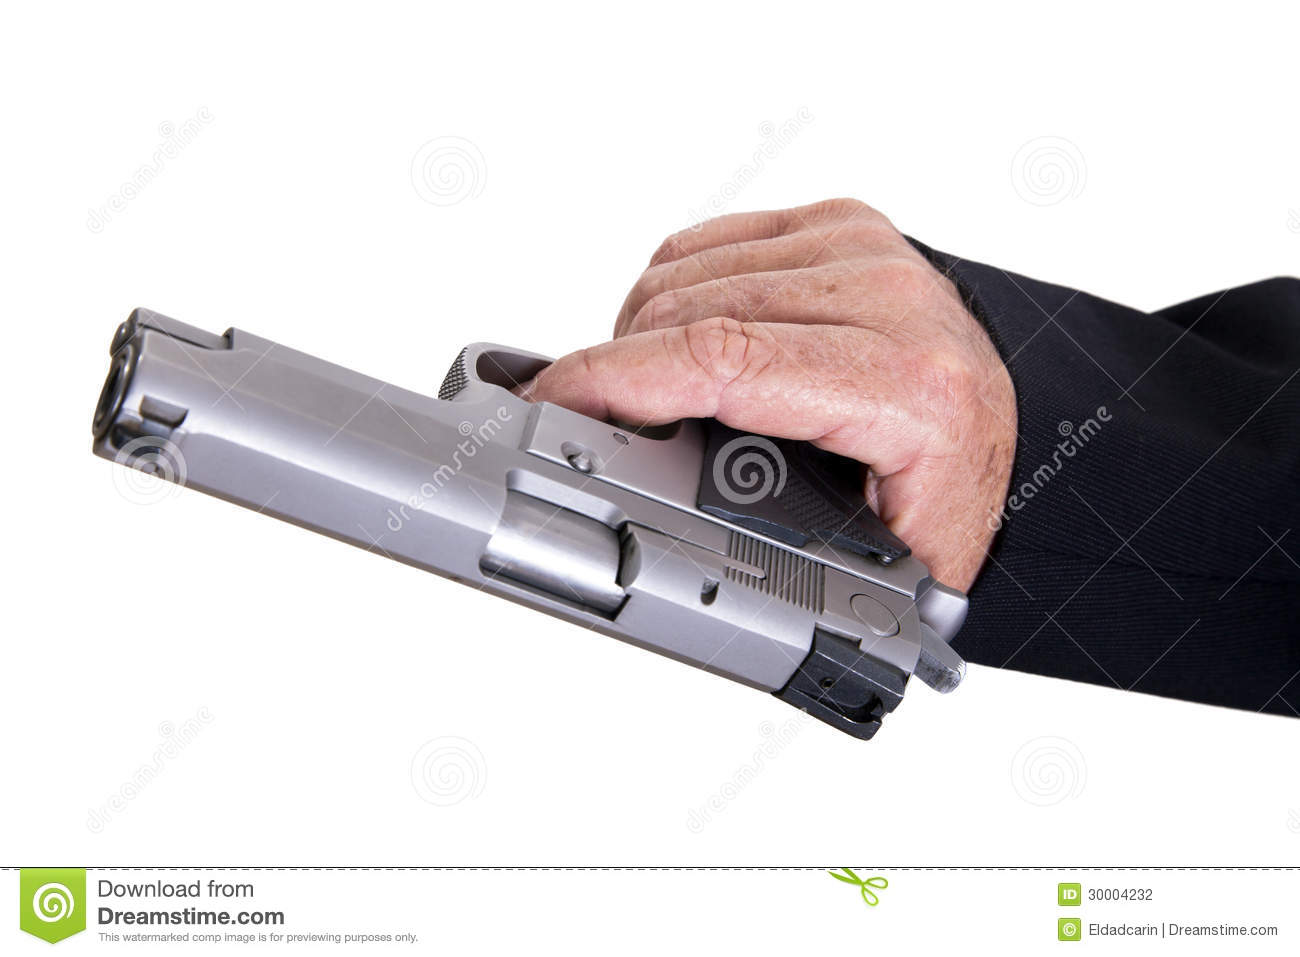pistol: (89, 305, 971, 741)
